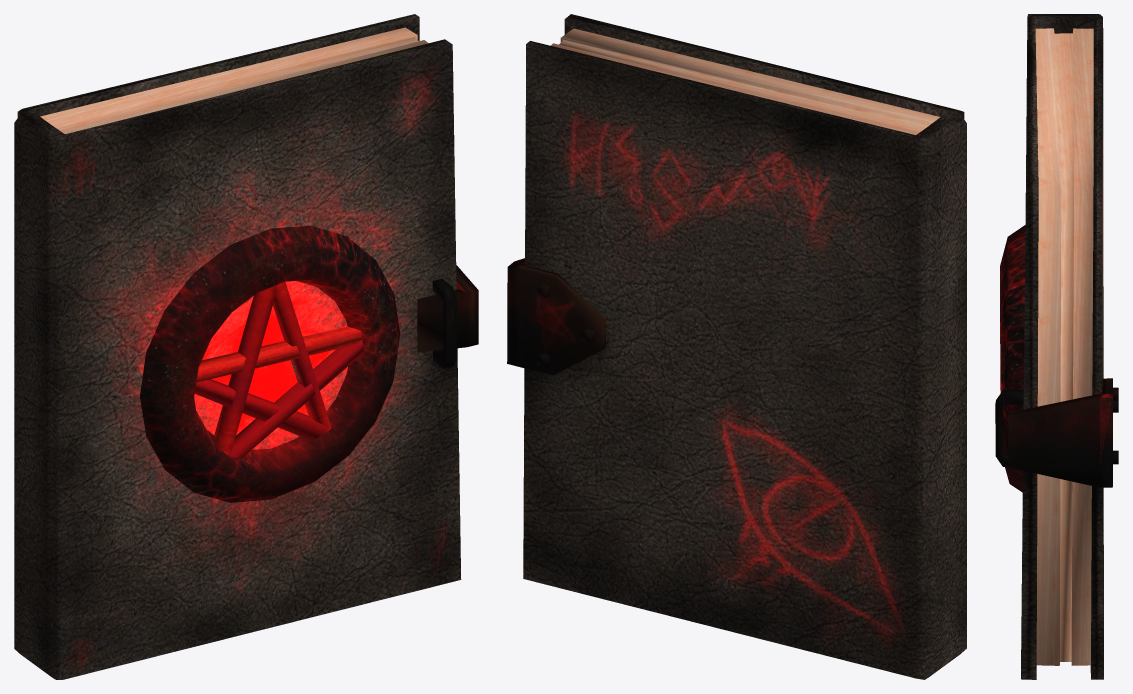
File: fire_book.glb
3 renders of one model, left to right at view 1: azimuth 30°, elevation 25°; view 2: azimuth 150°, elevation 25°; view 3: azimuth 270°, elevation 25°, orthographic. The views are drawn at different scales.
Visible parts, largest first — view 1: group1_pasted__pCube4; view 2: group1_pasted__pCube4; view 3: group1_pasted__pCube4.
Part boxes in pixels (x1,y1,x2,y2): group1_pasted__pCube4: (14,14,478,679); group1_pasted__pCube4: (507,14,966,679); group1_pasted__pCube4: (995,14,1118,679).
Bounding box in the file's own units: 1.61 × 2 × 0.4526.
1 material, 1 textured.
